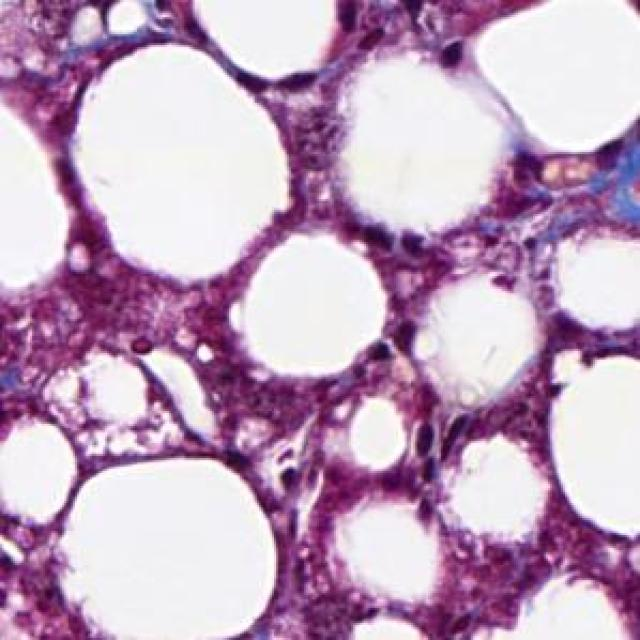inflammation: (404, 404, 480, 496), (227, 443, 323, 501), (342, 212, 432, 259)
